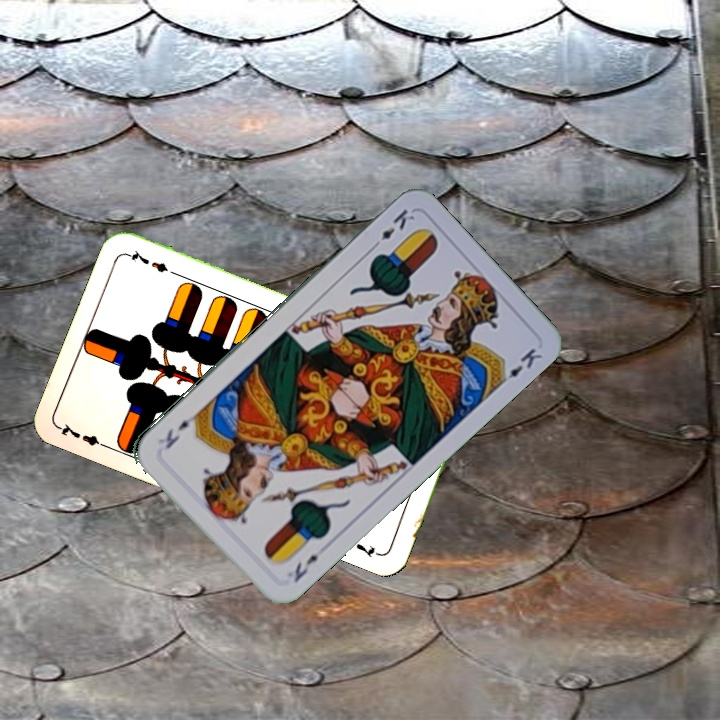E7: (56, 419, 112, 452)
EK: (367, 205, 418, 253), (289, 550, 321, 585)
